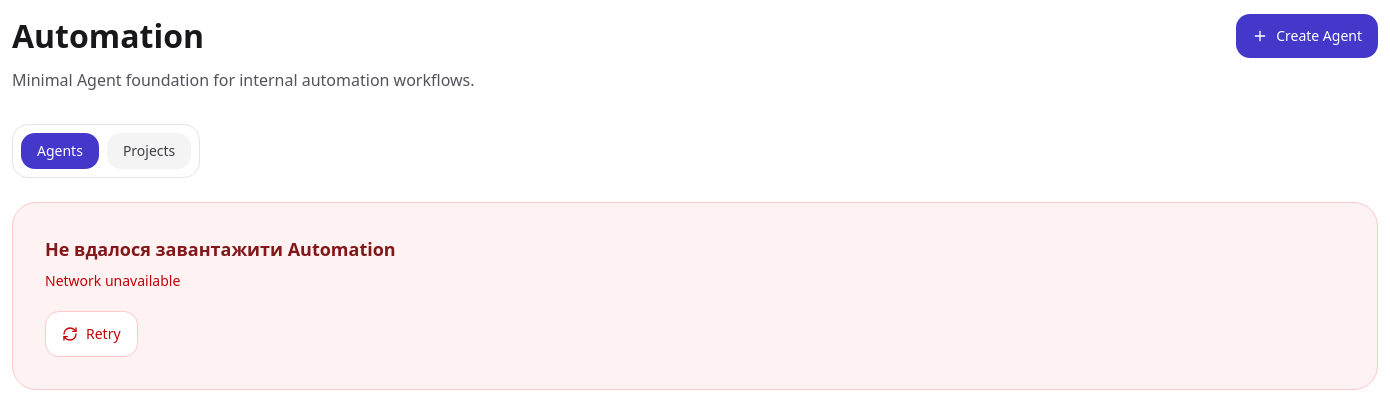
Test case: AutomationPage › renders error block and retries loading
The image size is (1390, 407).
Expected: the heading "Не вдалося завантажити Automation" is shown, [45,237,396,261]
Expected: the text "Network unavailable" is shown, [45,271,180,290]
Step 1. Click the button "Retry" → point(91, 334), box [45,311,138,357]
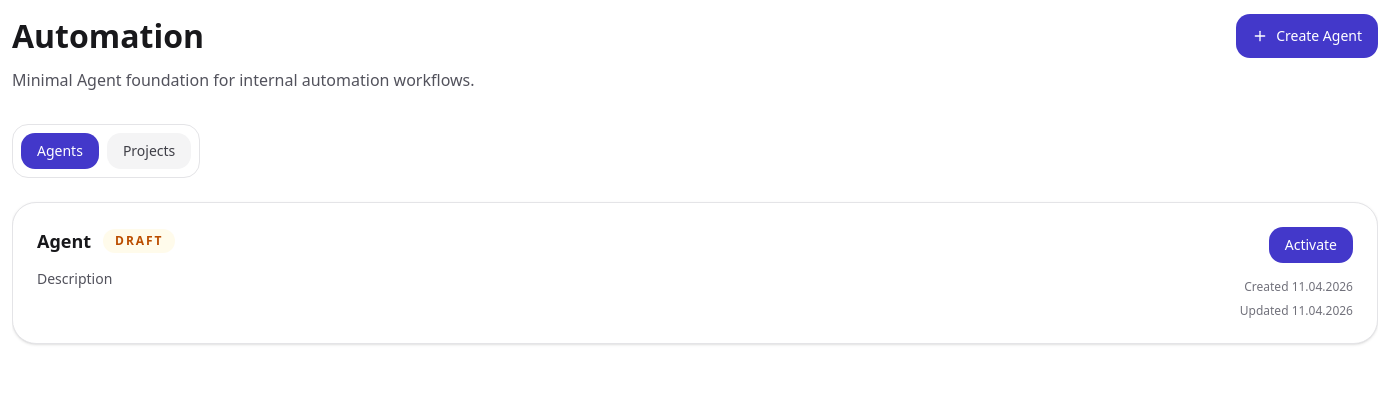
Now the heading "Agent" is shown, box [37,227,91,255]
